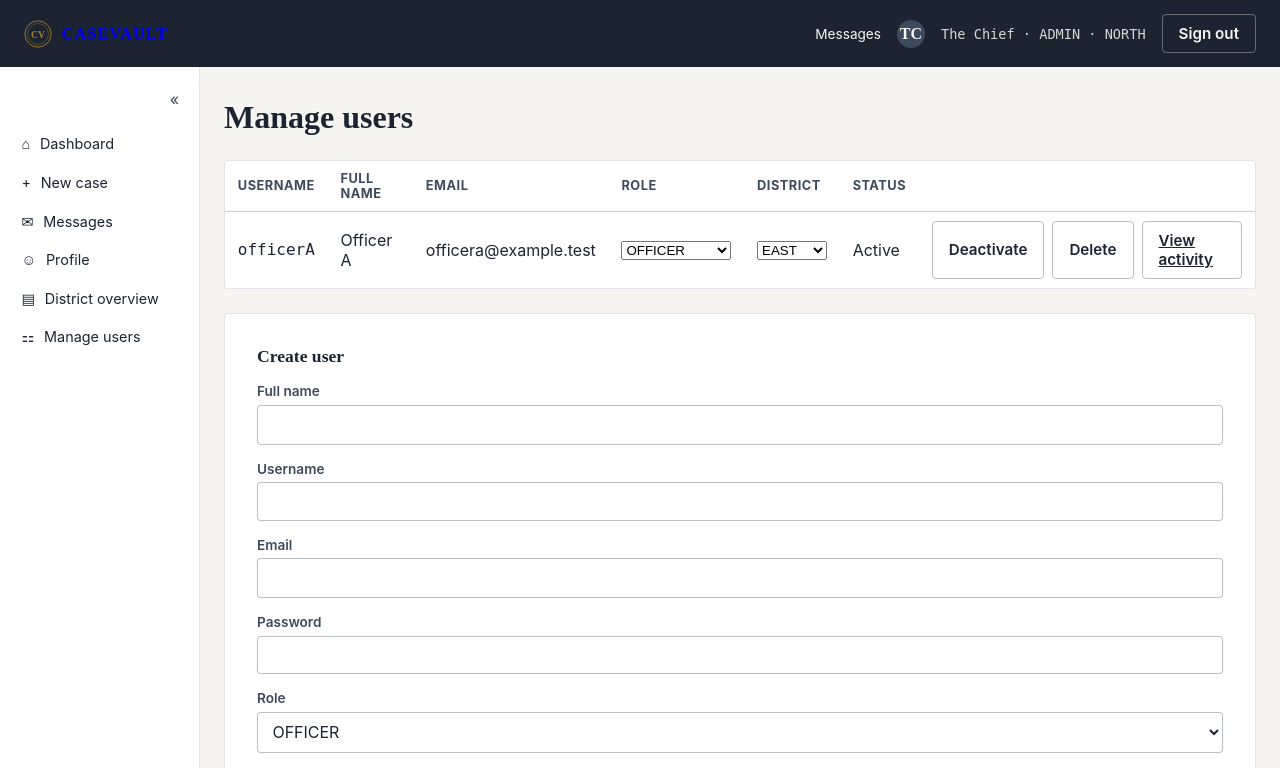
ManageUsersPage › shows an error when deletion is blocked by existing history
This screenshot has width=1280, height=768.
Expected: the text "officerA" is shown, [225,211,328,288]
Click the button with aria-label "delete officera" at (1093, 250), box [1052,221,1134,279]
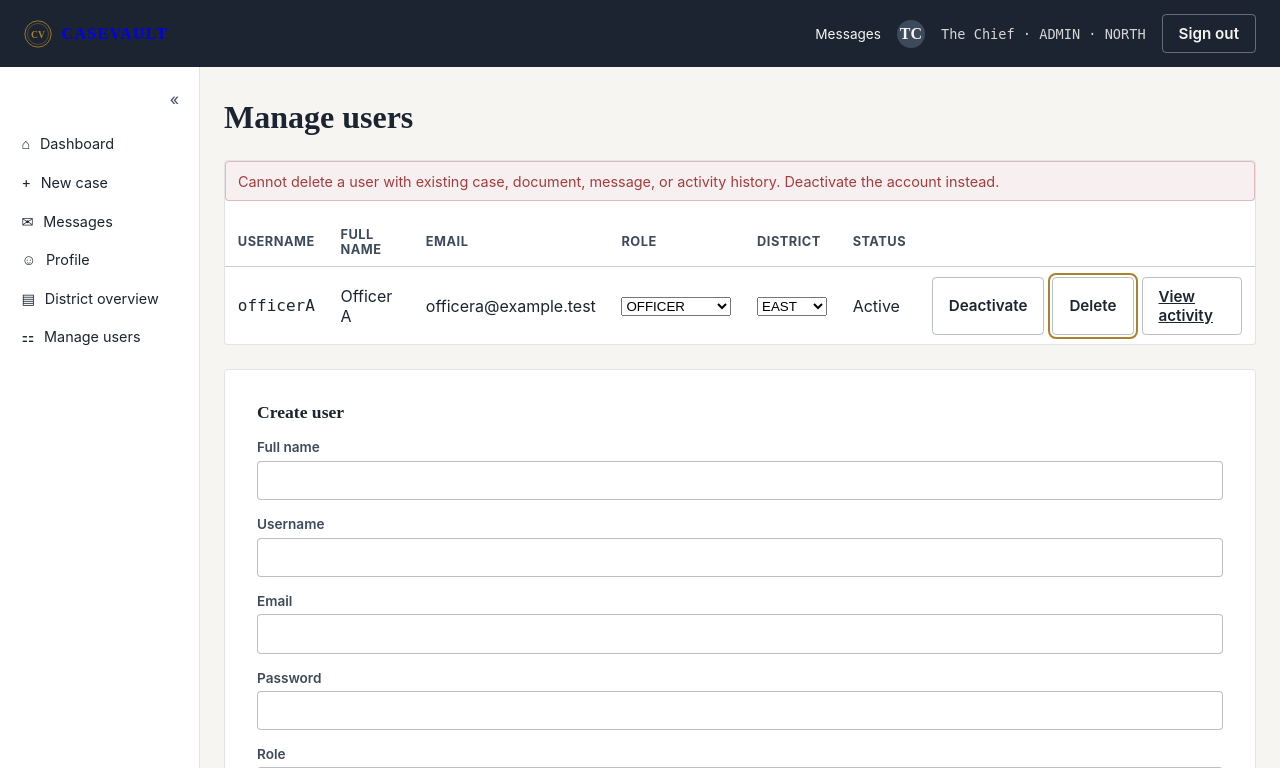
Expected: the text "officerA" is shown, [225,267,328,344]
Now the text "deactivate the account instead" is shown, box [238,173,999,190]
